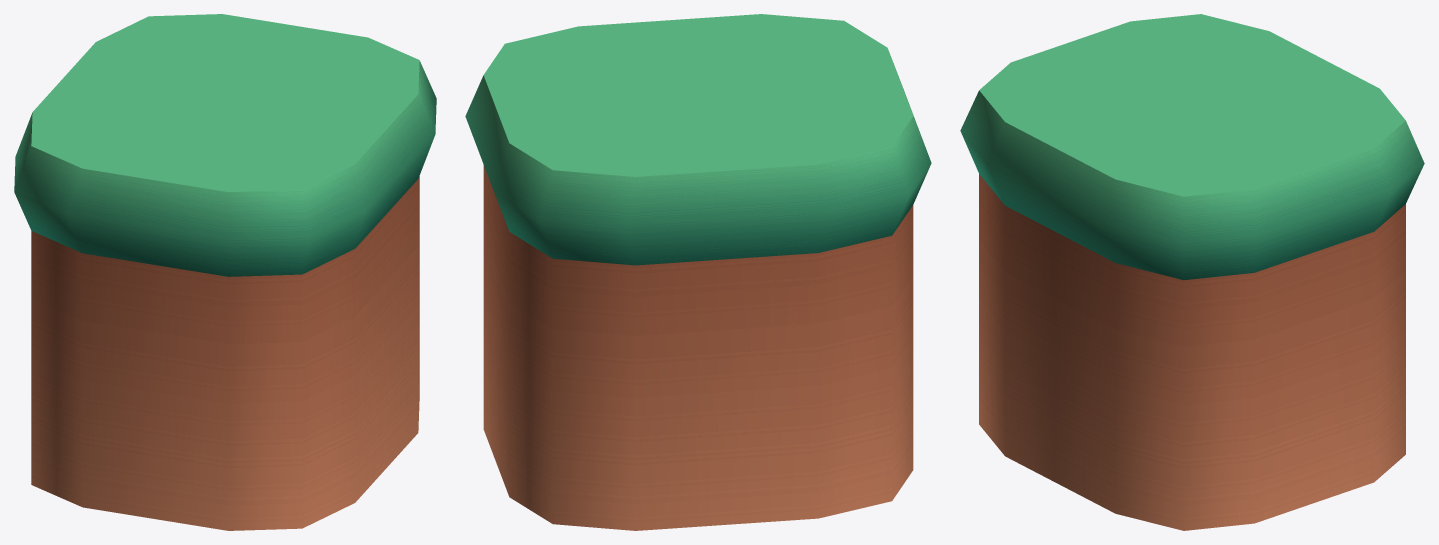
File: block-grass.011_lev2.glb
3 views of the same model, side by side, from view 1: azimuth 30°, elevation 25°; view 2: azimuth 150°, elevation 25°; view 3: azimuth 270°, elevation 25° (orthographic). The views are drawn at different scales.
Visible parts, largest first — view 1: block-grass.011_lev2; view 2: block-grass.011_lev2; view 3: block-grass.011_lev2.
Part boxes in pixels (<box>): block-grass.011_lev2: <box>14,14,436,530</box>; block-grass.011_lev2: <box>465,14,931,530</box>; block-grass.011_lev2: <box>960,14,1424,530</box>.
Bounding box in the file's own units: 4.74 × 3.72 × 4.68.
Materials: 1 (1 with a texture image).
